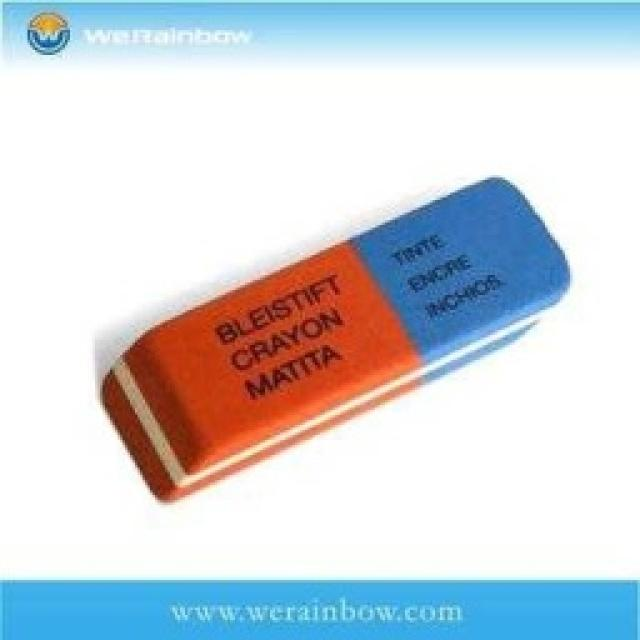Silgi: (101, 174, 573, 502)
